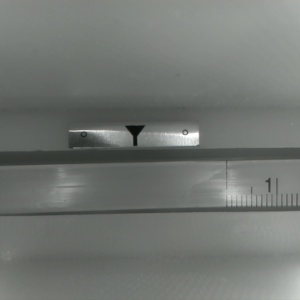1: (264, 178, 271, 192)
finger: (124, 126, 145, 144)
